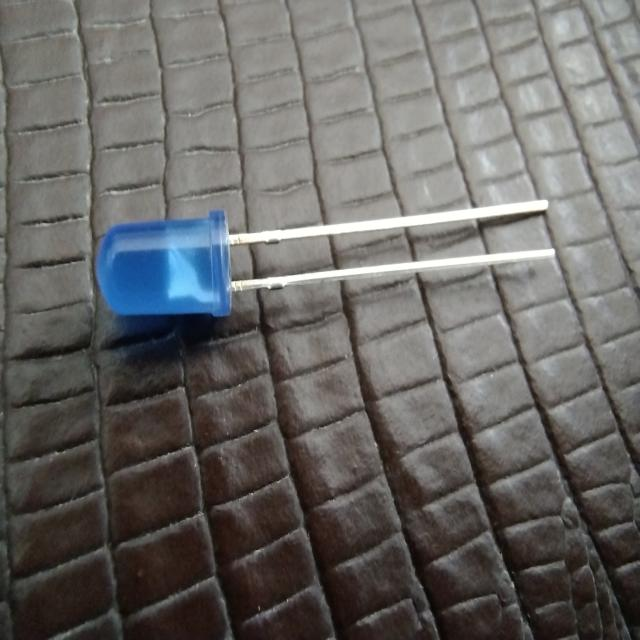blue_led: (95, 208, 232, 319)
